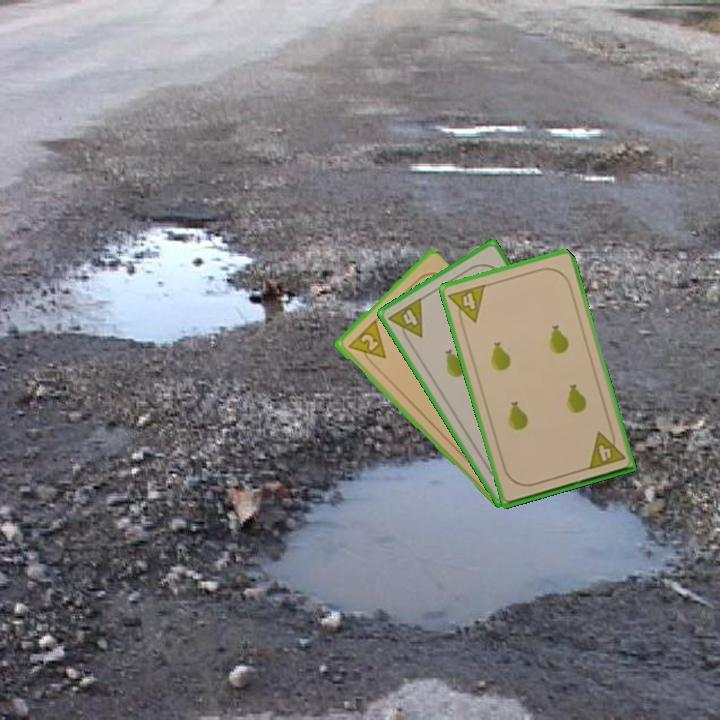2p: (343, 317, 389, 369)
4p: (384, 294, 426, 347), (445, 281, 488, 329), (584, 426, 628, 472)
